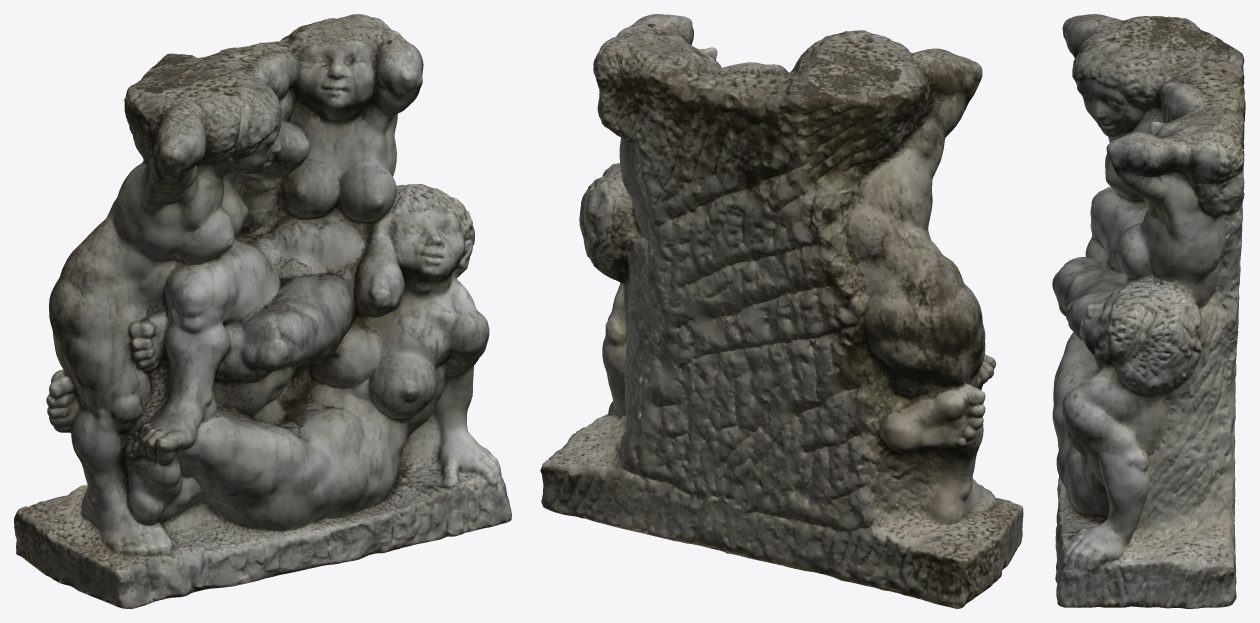
The model's file is preview.glb.
3 views of the same model, side by side, from view 1: azimuth 30°, elevation 25°; view 2: azimuth 150°, elevation 25°; view 3: azimuth 270°, elevation 25° (orthographic). The views are drawn at different scales.
Parts seen in each view (by area): view 1: Object_2; view 2: Object_2; view 3: Object_2.
Boxes of the visible parts, left/top/right/bottom form: Object_2: left=14, top=14, right=511, bottom=608; Object_2: left=540, top=14, right=1023, bottom=608; Object_2: left=1052, top=14, right=1245, bottom=608.
Size of the model in its own units: 22.56 by 24.45 by 9.53.
Materials: 1 (1 with a texture image).
